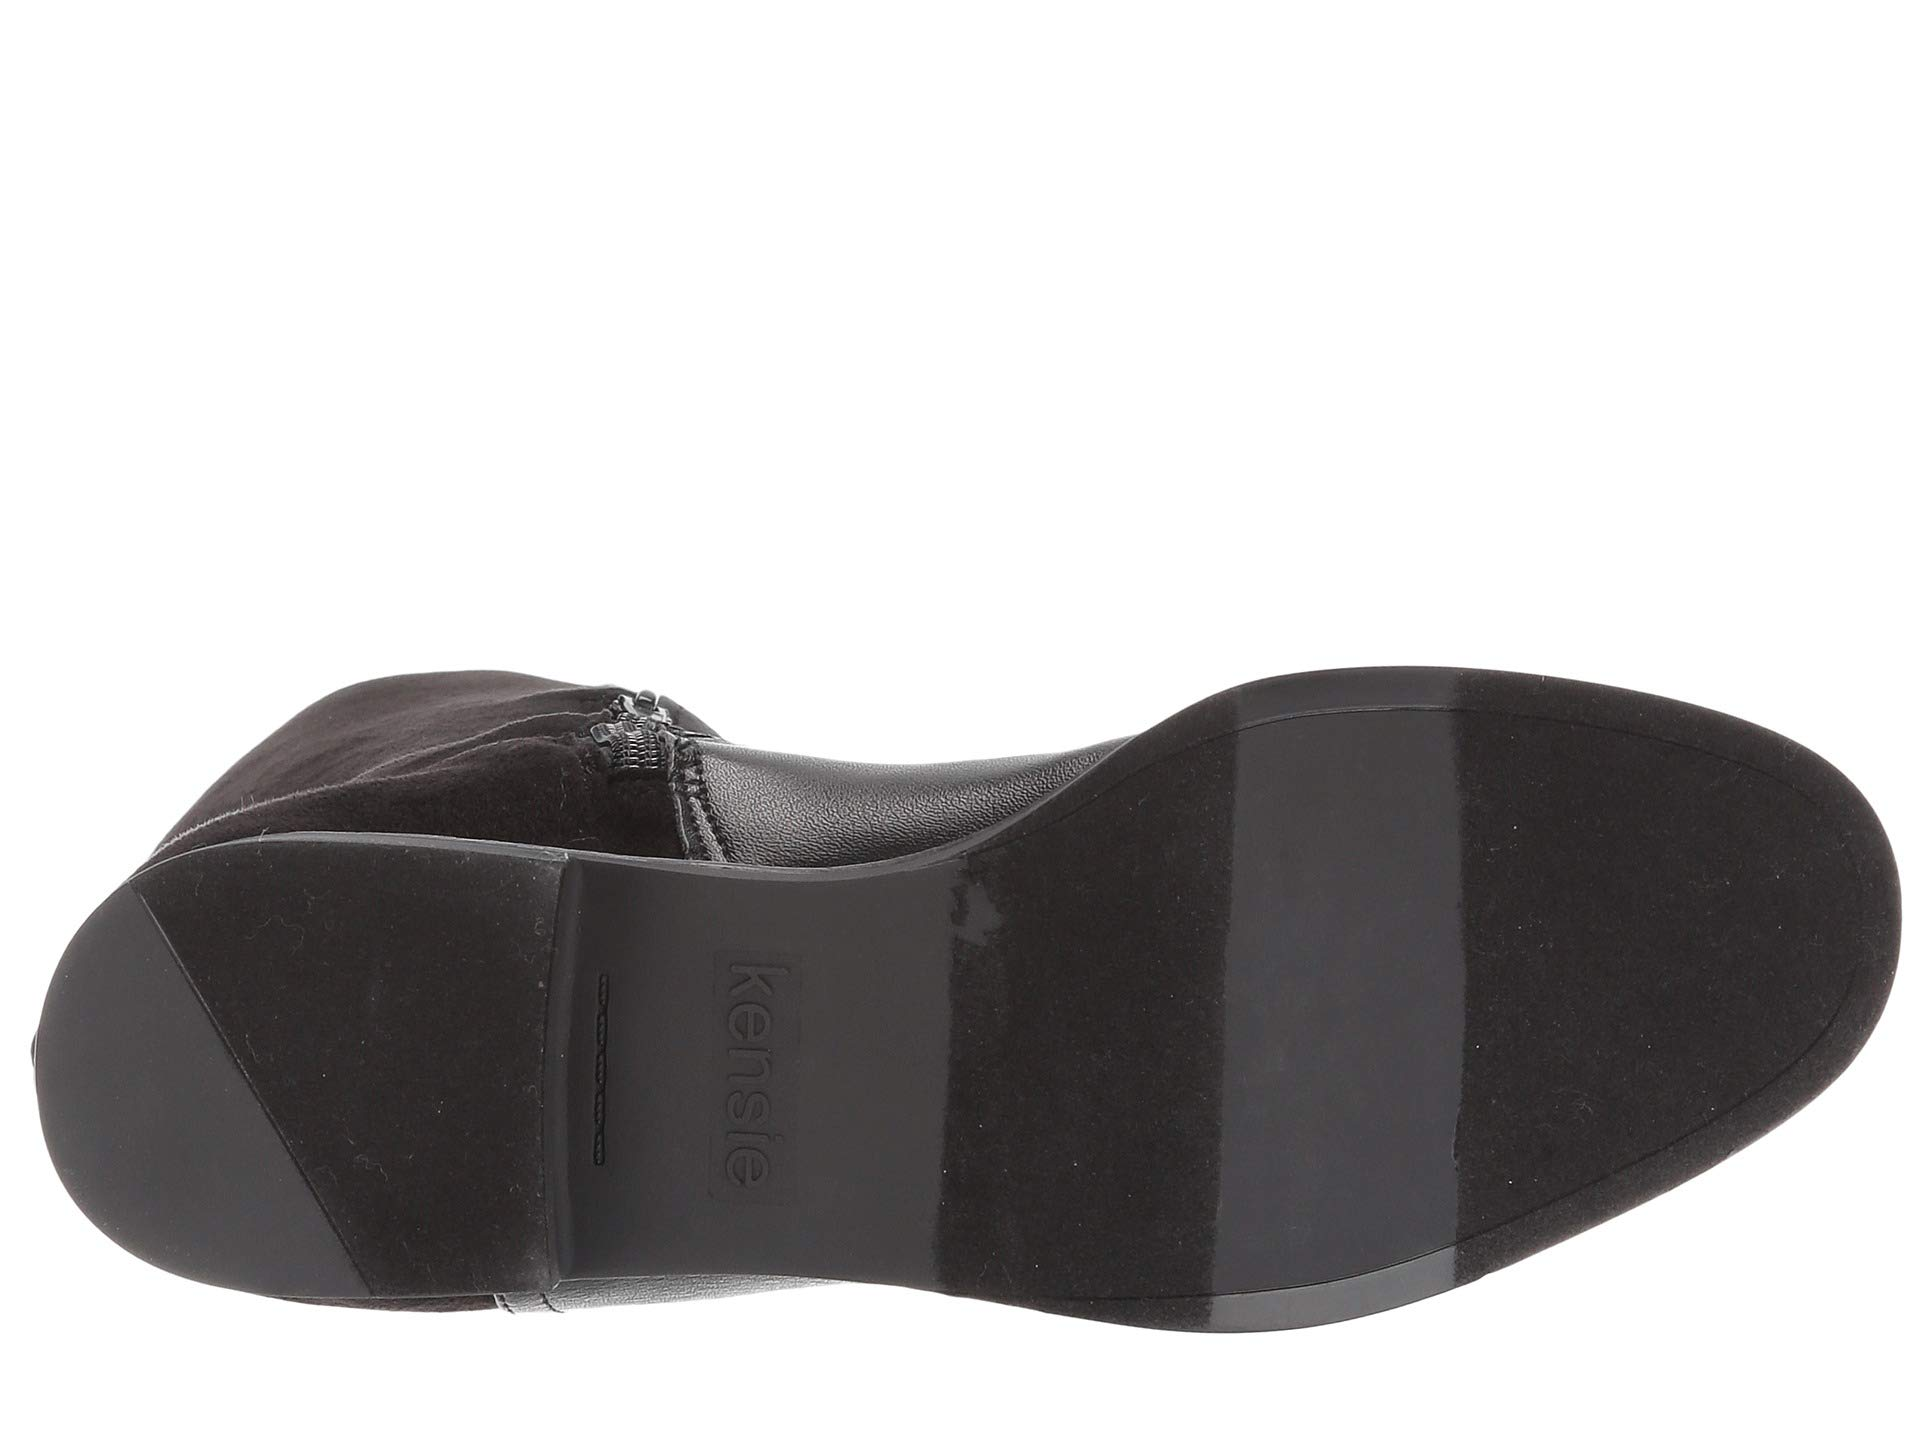line: (122, 935, 395, 1258)
